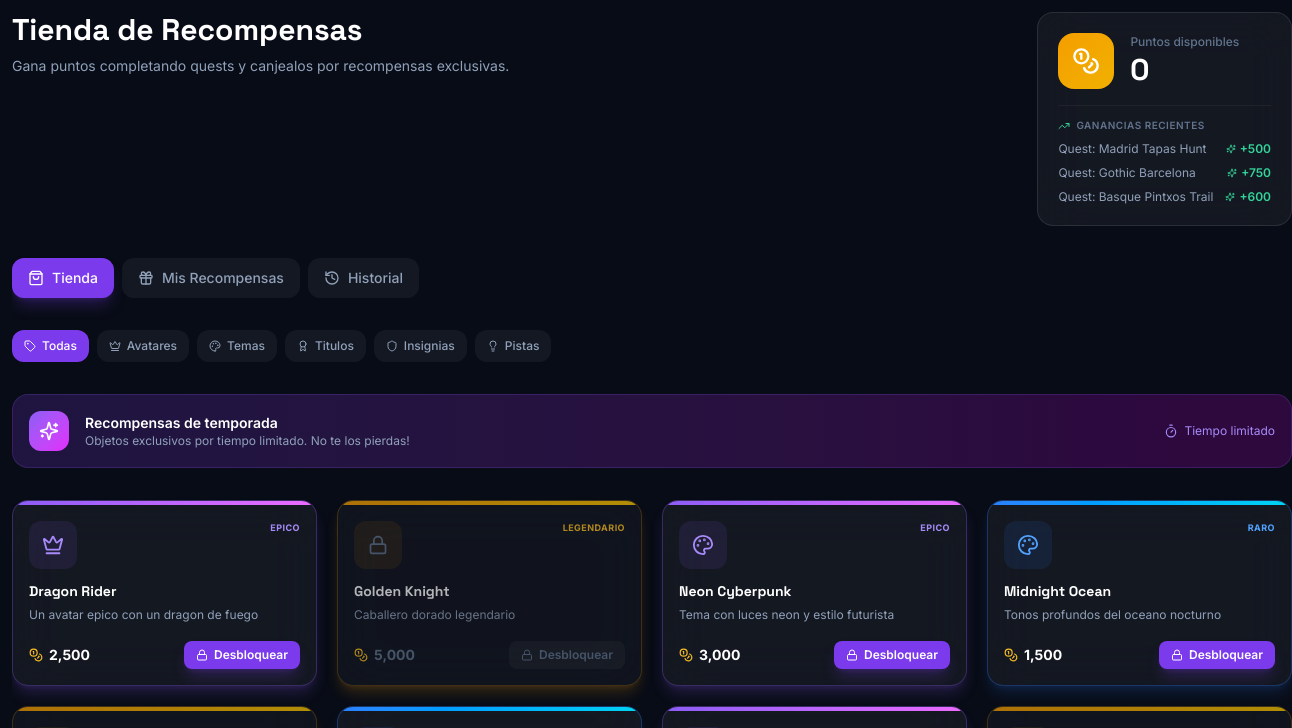
Test: RewardsPage › filters rewards by category when clicking Avatares
The image size is (1292, 728).
Click the button "Avatares" at (143, 346), box [97,330,189,362]
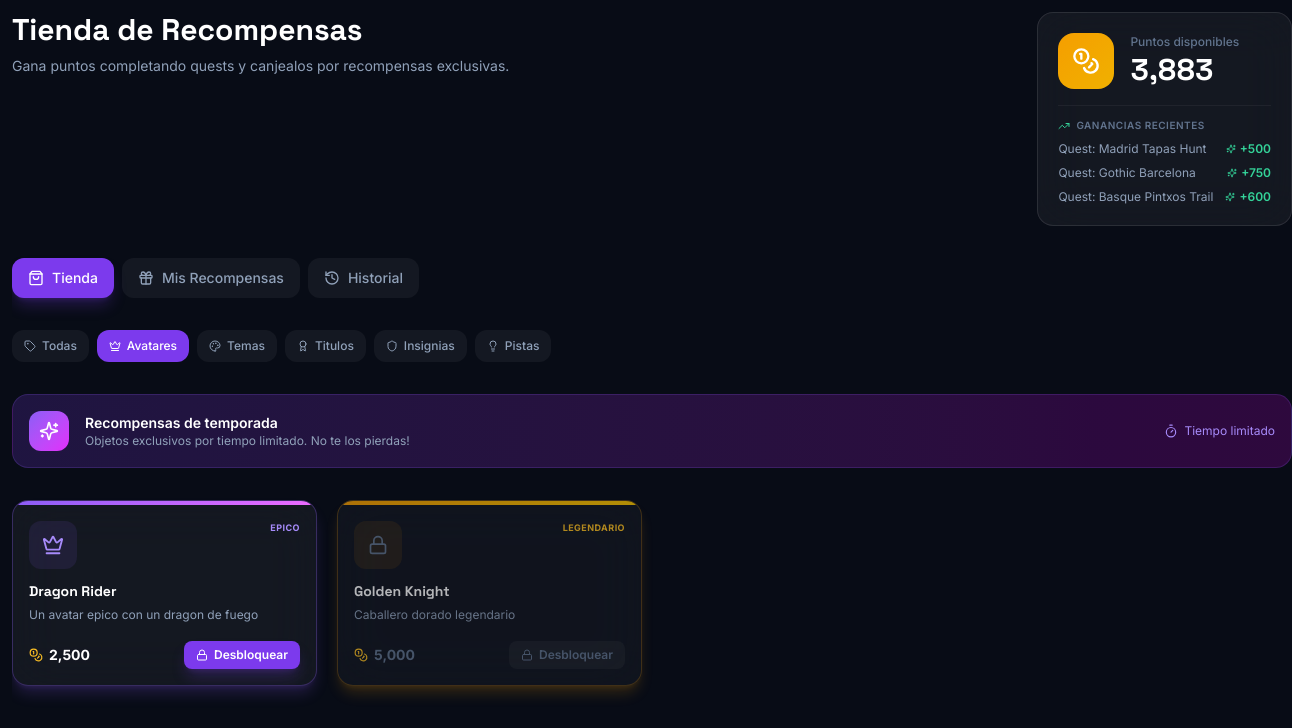
Expected: the heading "Dragon Rider" is shown, [29,582,116,600]
Expected: the heading "Neon Cyberpunk" is gone
